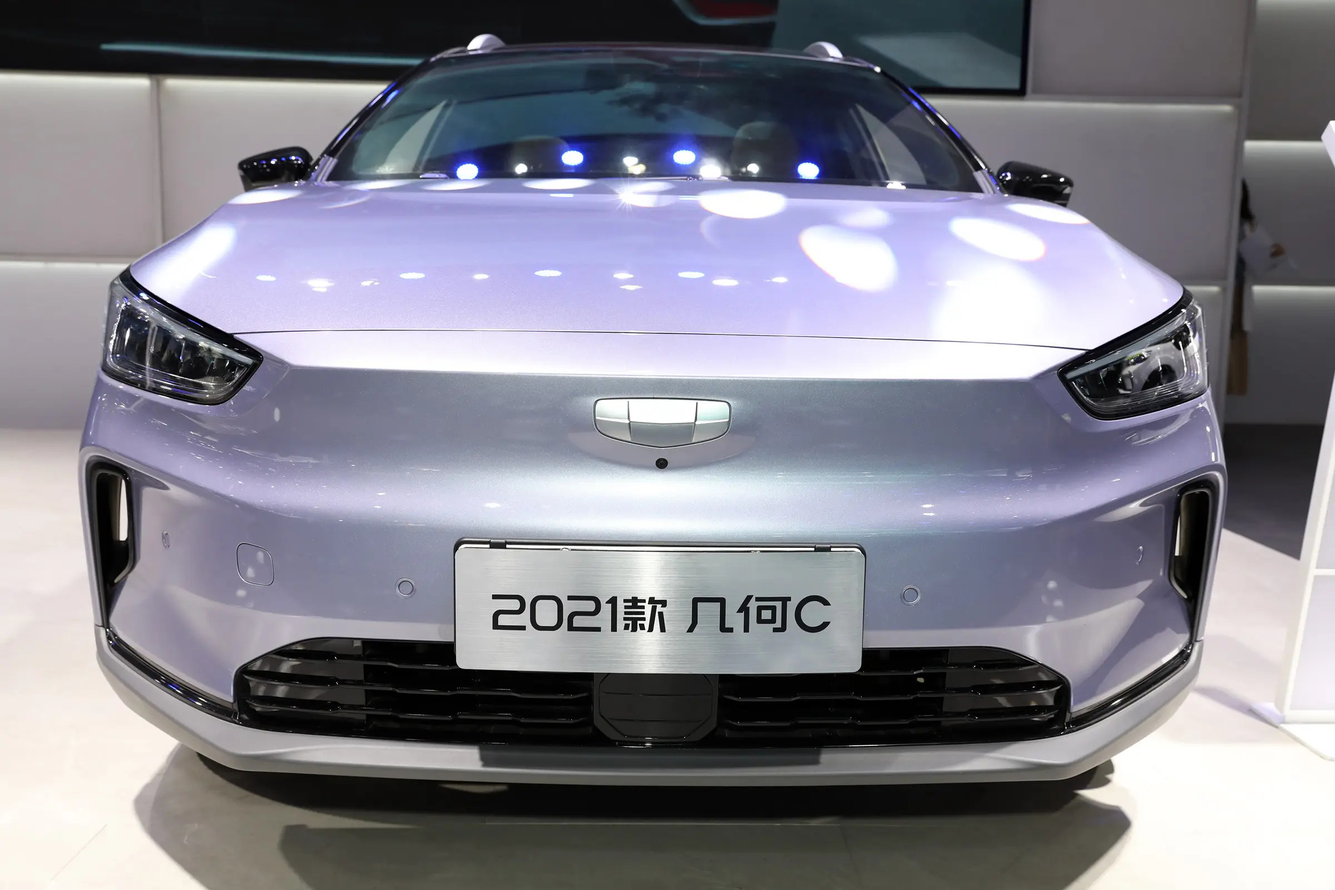GEOMETRY: (596, 400, 729, 446)
